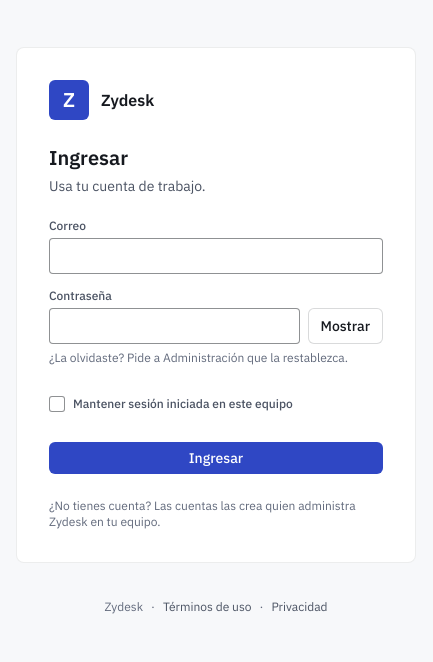
it: 401 muestra "Correo o contraseña incorrectos"
Type "hikki@zydesk.local" into the field labelled "Correo" at (216, 256), box [49,238,383,274]
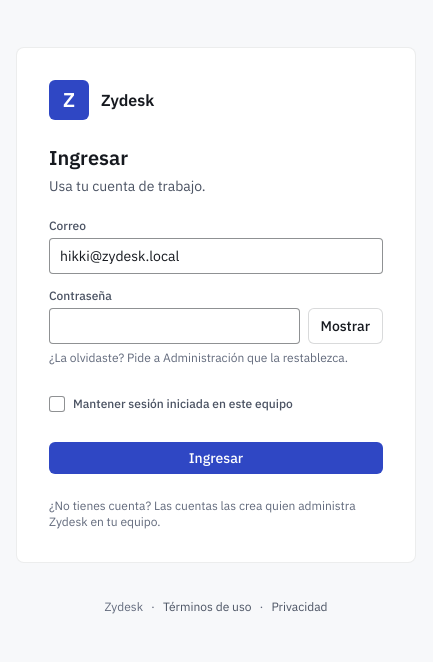
Type "Clave.De.Prueba.1" into the password field labelled "Contraseña" at (174, 326), box [49,308,300,344]
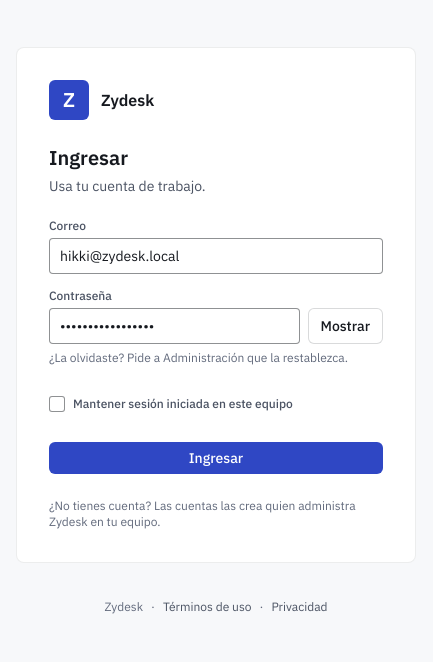
Click the button "Ingresar" at (216, 458), box [49,442,383,474]
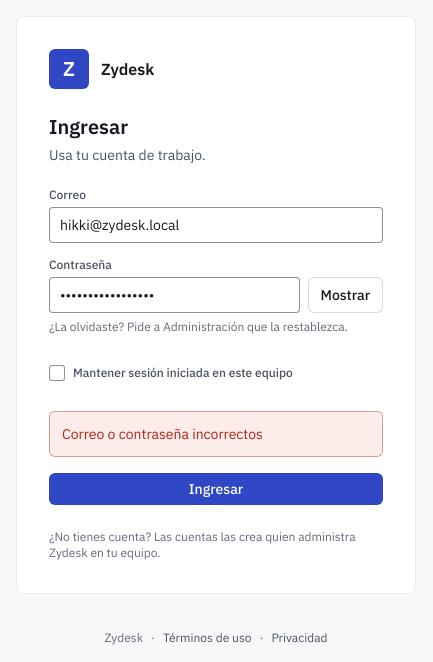
Expected: the message reads "Correo o contraseña incorrectos", [62,425,263,443]
